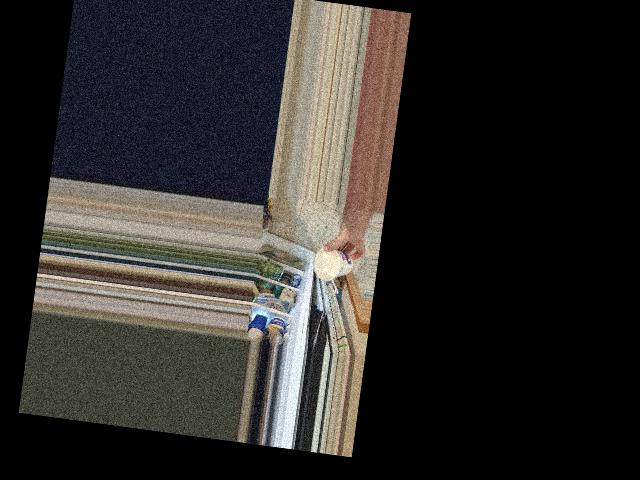cotage: (313, 243, 356, 282)
